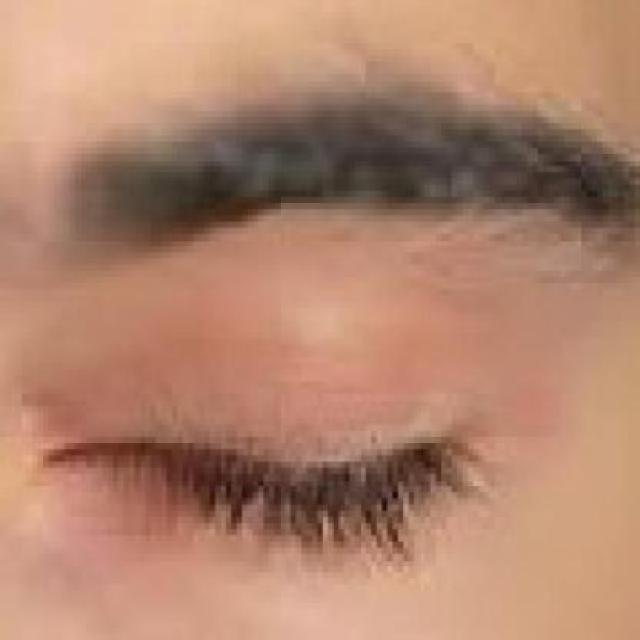drowsy: (100, 329, 462, 623)
